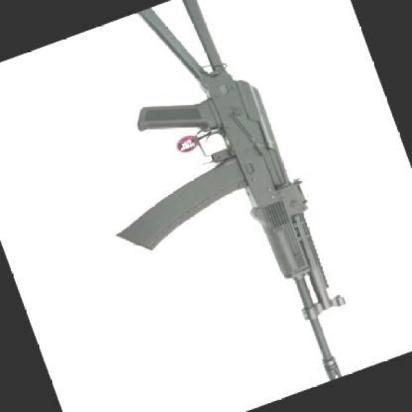Gun: (43, 0, 412, 412)
